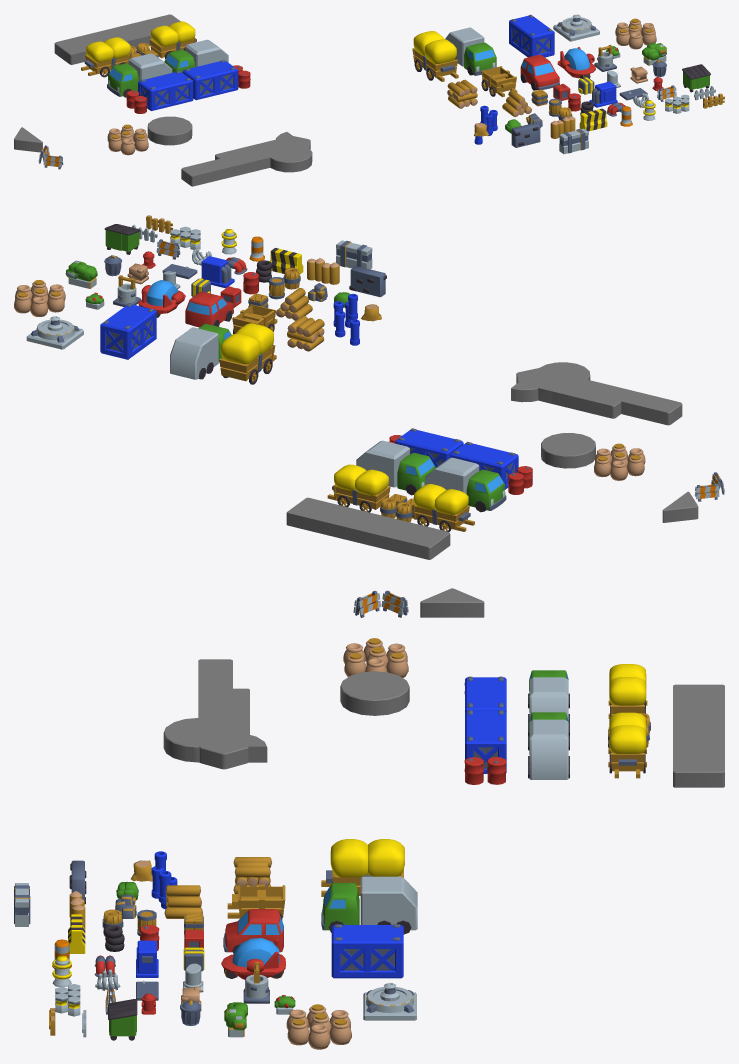
File: Obstacles_Props.fbx
The picture shows the model from 3 angles, top to bottom: view 1: azimuth 30°, elevation 25°; view 2: azimuth 150°, elevation 25°; view 3: azimuth 270°, elevation 25°; orthographic projection. The views are drawn at different scales.
Visible parts, largest first — view 1: Box033, Box037, 3D_Gameplay_Obstacle_SkinVanila_Wall_3x12, Box023, Box034, Box039, Box044, 3D_Gameplay_Obstacle_SkinVanila_Wall_2x12, Box043, 3D_Gameplay_Obstacle_SkinVanila_Island_4x005, Box007, Sphere002 (+21 smaller); view 2: 3D_Gameplay_Obstacle_SkinVanila_Wall_3x12, Box037, Box033, Box023, Box034, Box039, 3D_Gameplay_Obstacle_SkinVanila_Wall_3x8, Box044, Box043, 3D_Gameplay_Obstacle_SkinVanila_Island_4x005, Sphere003, Sphere002 (+17 smaller); view 3: 3D_Gameplay_Obstacle_SkinVanila_Wall_3x12, Box037, Box033, Box039, Box034, Box023, 3D_Gameplay_Obstacle_SkinVanila_Island_4x005, Box043, Sphere003, Cylinder023, Sphere002, Box044 (+15 smaller).
Boxes of the visible parts, x1,y1,x2,y2 form: Box033: (126, 60, 250, 113); Box037: (107, 39, 228, 97); 3D_Gameplay_Obstacle_SkinVanila_Wall_3x12: (54, 14, 180, 64); Box023: (412, 31, 458, 81); Box034: (509, 14, 554, 57); Box039: (445, 27, 496, 75); Box044: (81, 37, 131, 77); 3D_Gameplay_Obstacle_SkinVanila_Wall_2x12: (181, 145, 286, 185); Box043: (149, 21, 196, 58); 3D_Gameplay_Obstacle_SkinVanila_Island_4x005: (147, 116, 192, 145); Box007: (520, 54, 559, 90); Sphere002: (107, 124, 148, 155); 3D_Gameplay_Obstacle_SkinVanila_Wall_3x12: (286, 497, 450, 559); Box037: (356, 440, 506, 512); Box033: (388, 428, 532, 494); Box023: (219, 323, 276, 384); Box034: (100, 303, 156, 359); Box039: (170, 323, 231, 379); 3D_Gameplay_Obstacle_SkinVanila_Wall_3x8: (538, 373, 633, 418); Box044: (412, 484, 474, 531); Box043: (327, 464, 390, 512); 3D_Gameplay_Obstacle_SkinVanila_Island_4x005: (541, 433, 595, 468); Sphere003: (14, 280, 65, 316); Sphere002: (594, 443, 645, 480); 3D_Gameplay_Obstacle_SkinVanila_Wall_3x12: (673, 684, 724, 787); Box037: (528, 670, 569, 779); Box033: (464, 676, 506, 784); Box039: (321, 876, 417, 934); Box034: (331, 924, 403, 978); Box023: (321, 839, 404, 896); 3D_Gameplay_Obstacle_SkinVanila_Island_4x005: (340, 671, 409, 715); Box043: (608, 712, 646, 778); Sphere003: (286, 1004, 351, 1049); Cylinder023: (221, 938, 285, 979); Sphere002: (343, 638, 408, 677); Box044: (608, 664, 647, 718).
Bounding box in the file's own units: 6102 × 516 × 4104.
